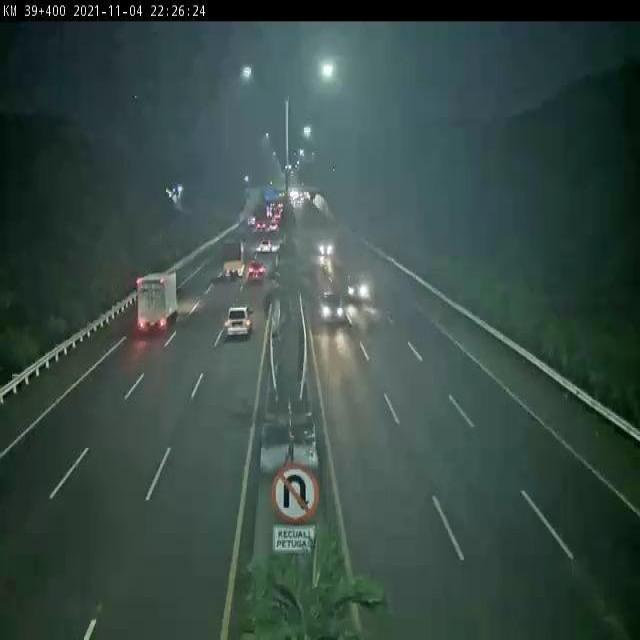car: (226, 306, 251, 338), (319, 292, 344, 323), (346, 275, 368, 304), (316, 236, 334, 257), (249, 262, 264, 282), (260, 240, 269, 253)
truck-m-: (138, 271, 177, 329), (221, 241, 245, 276)
